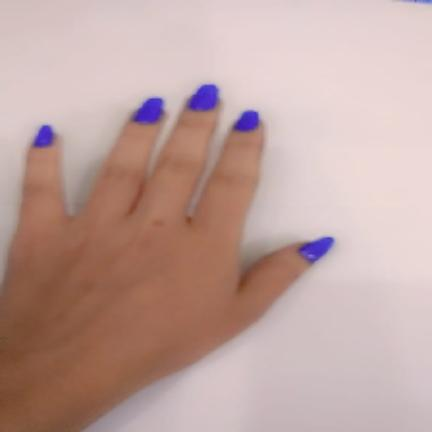Nail: (187, 84, 219, 111), (300, 237, 334, 262), (132, 98, 164, 123), (234, 110, 259, 131), (34, 124, 54, 148)
